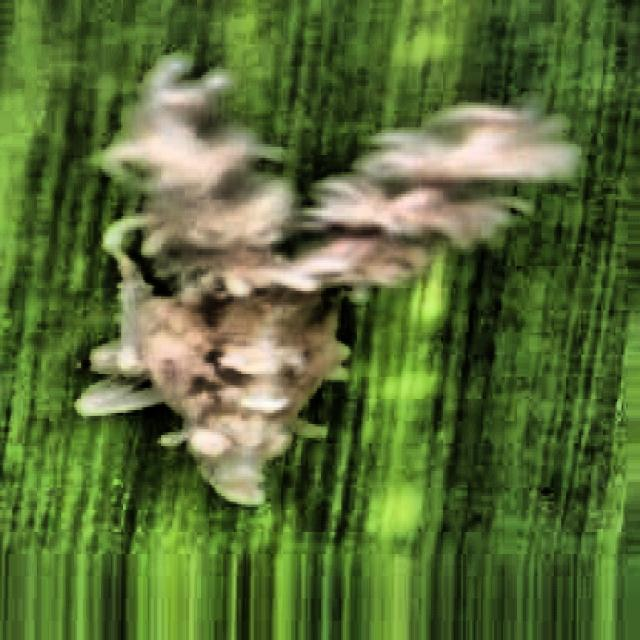Pyrilla-perpusilla: (56, 29, 584, 524)
